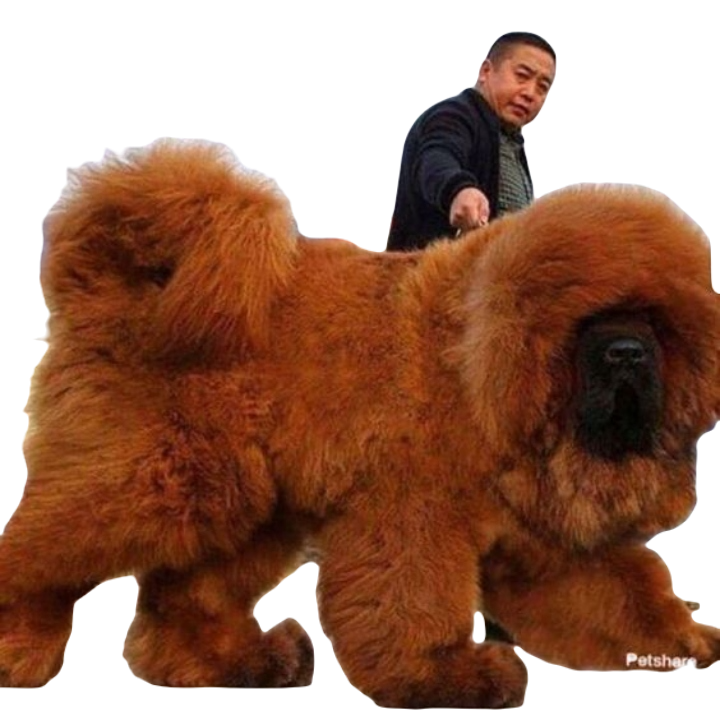Dog: (0, 139, 720, 705)
